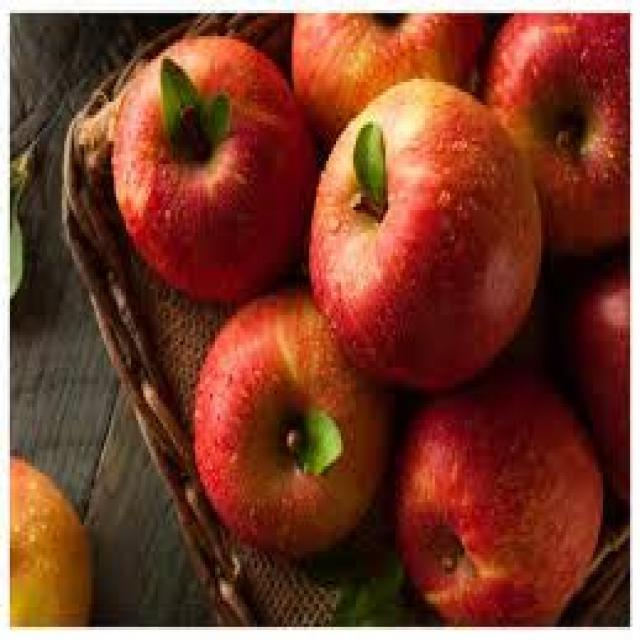Apple: (306, 76, 544, 390), (108, 33, 316, 302), (190, 285, 393, 558), (393, 371, 603, 624), (482, 10, 630, 256), (289, 10, 484, 151), (564, 260, 630, 506)
